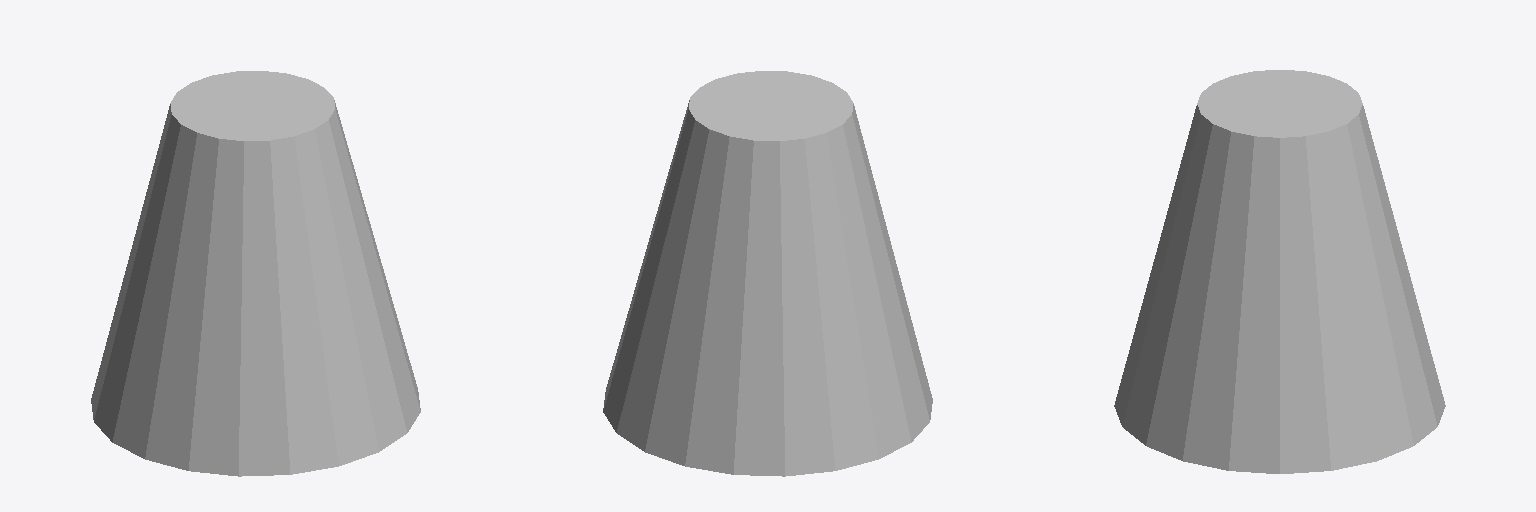
File: laternLamp.obj
3 views of the same model, side by side, from view 1: azimuth 30°, elevation 25°; view 2: azimuth 150°, elevation 25°; view 3: azimuth 270°, elevation 25° (orthographic).
Parts seen in each view (by area): view 1: Cylinder6; view 2: Cylinder6; view 3: Cylinder6.
Boxes of the visible parts, x1=… form: Cylinder6: x1=91, y1=71, x2=420, y2=476; Cylinder6: x1=603, y1=71, x2=932, y2=476; Cylinder6: x1=1114, y1=70, x2=1445, y2=473.
Size of the model in its own units: 0.576 by 0.5806 by 0.576.